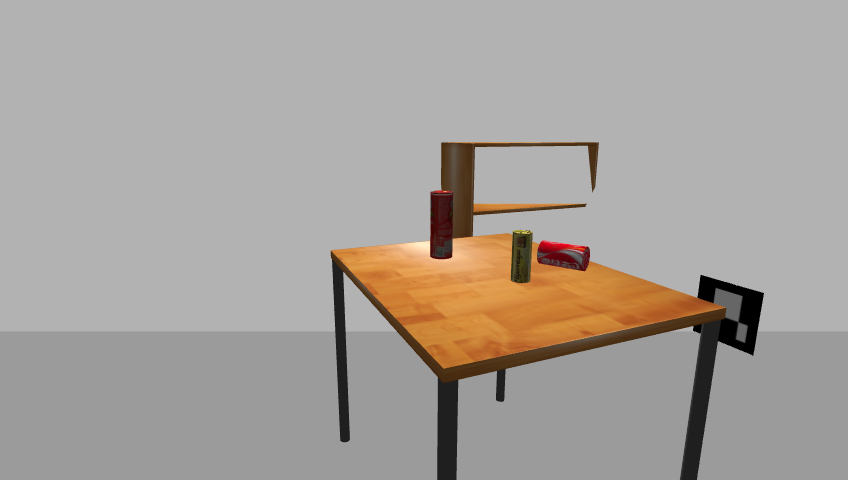aruco marker: (691, 274, 768, 357)
biscuits pack: (509, 229, 534, 284)
bookshelf: (435, 138, 606, 295)
coke can: (535, 241, 593, 273)
dinner table: (324, 235, 732, 480)
pringles can: (428, 190, 455, 260)
